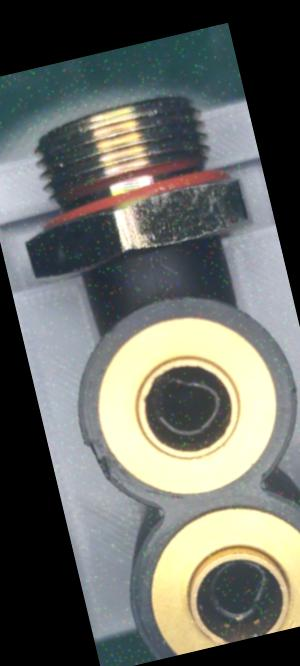bump: (83, 430, 113, 481)
joint line: (142, 251, 164, 299)
off-centered: (143, 359, 235, 453), (194, 548, 280, 634)
white mark: (157, 255, 179, 283)
